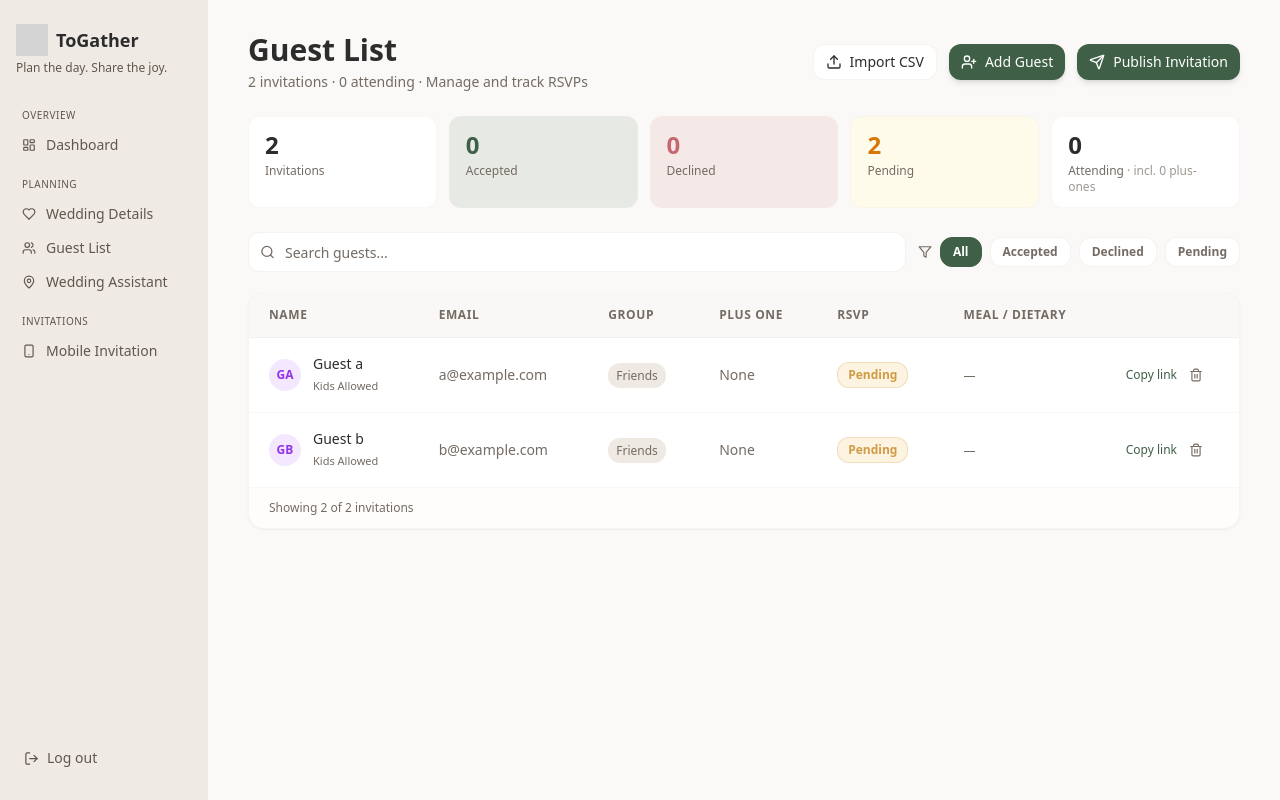
Scenario: Guest List — confirmation modal › warns that no emails will be sent at zero, and still allows publishing
This screenshot has width=1280, height=800.
Click the button "Publish Invitation" at point(1159, 62), box 1077,44 -> 1240,80
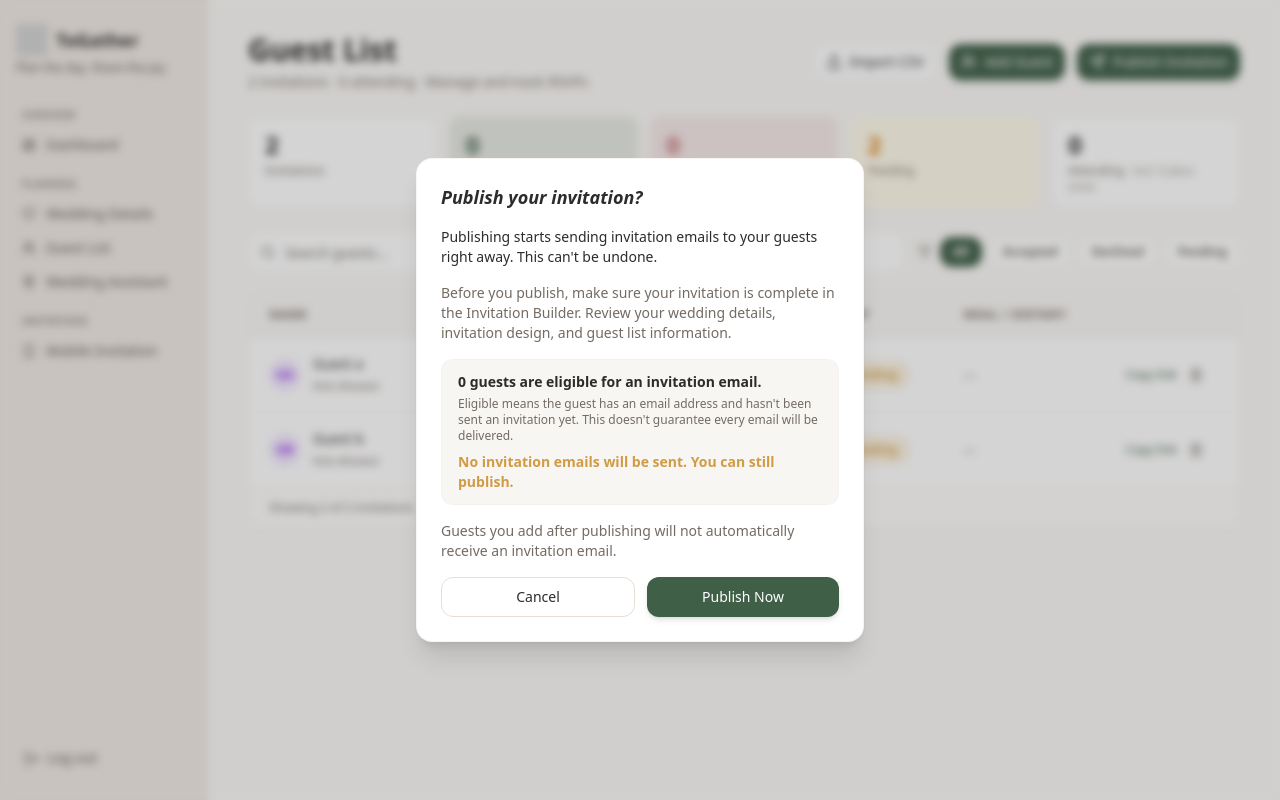
expect the dialog is shown: met, box 416,158 -> 864,642
expect the element with test id "publish-eligible" shows "0 guests are eligible": met, box 441,359 -> 839,505
expect the element with test id "publish-eligible" shows "no invitation emails will be sent": met, box 458,452 -> 775,491
Click the button "Publish Now" at point(743, 597), box 647,577 -> 839,617
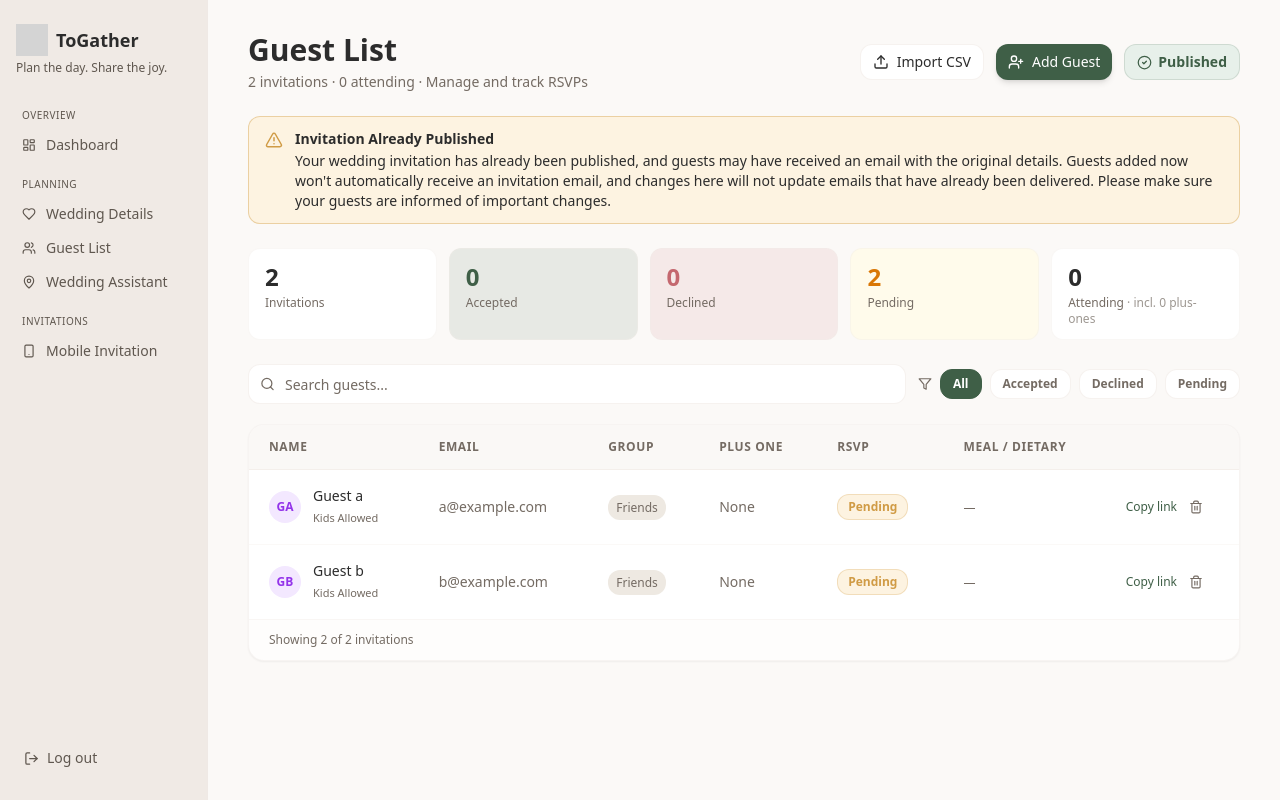
expect the text "Published" is shown: met, box 1124,44 -> 1240,80
